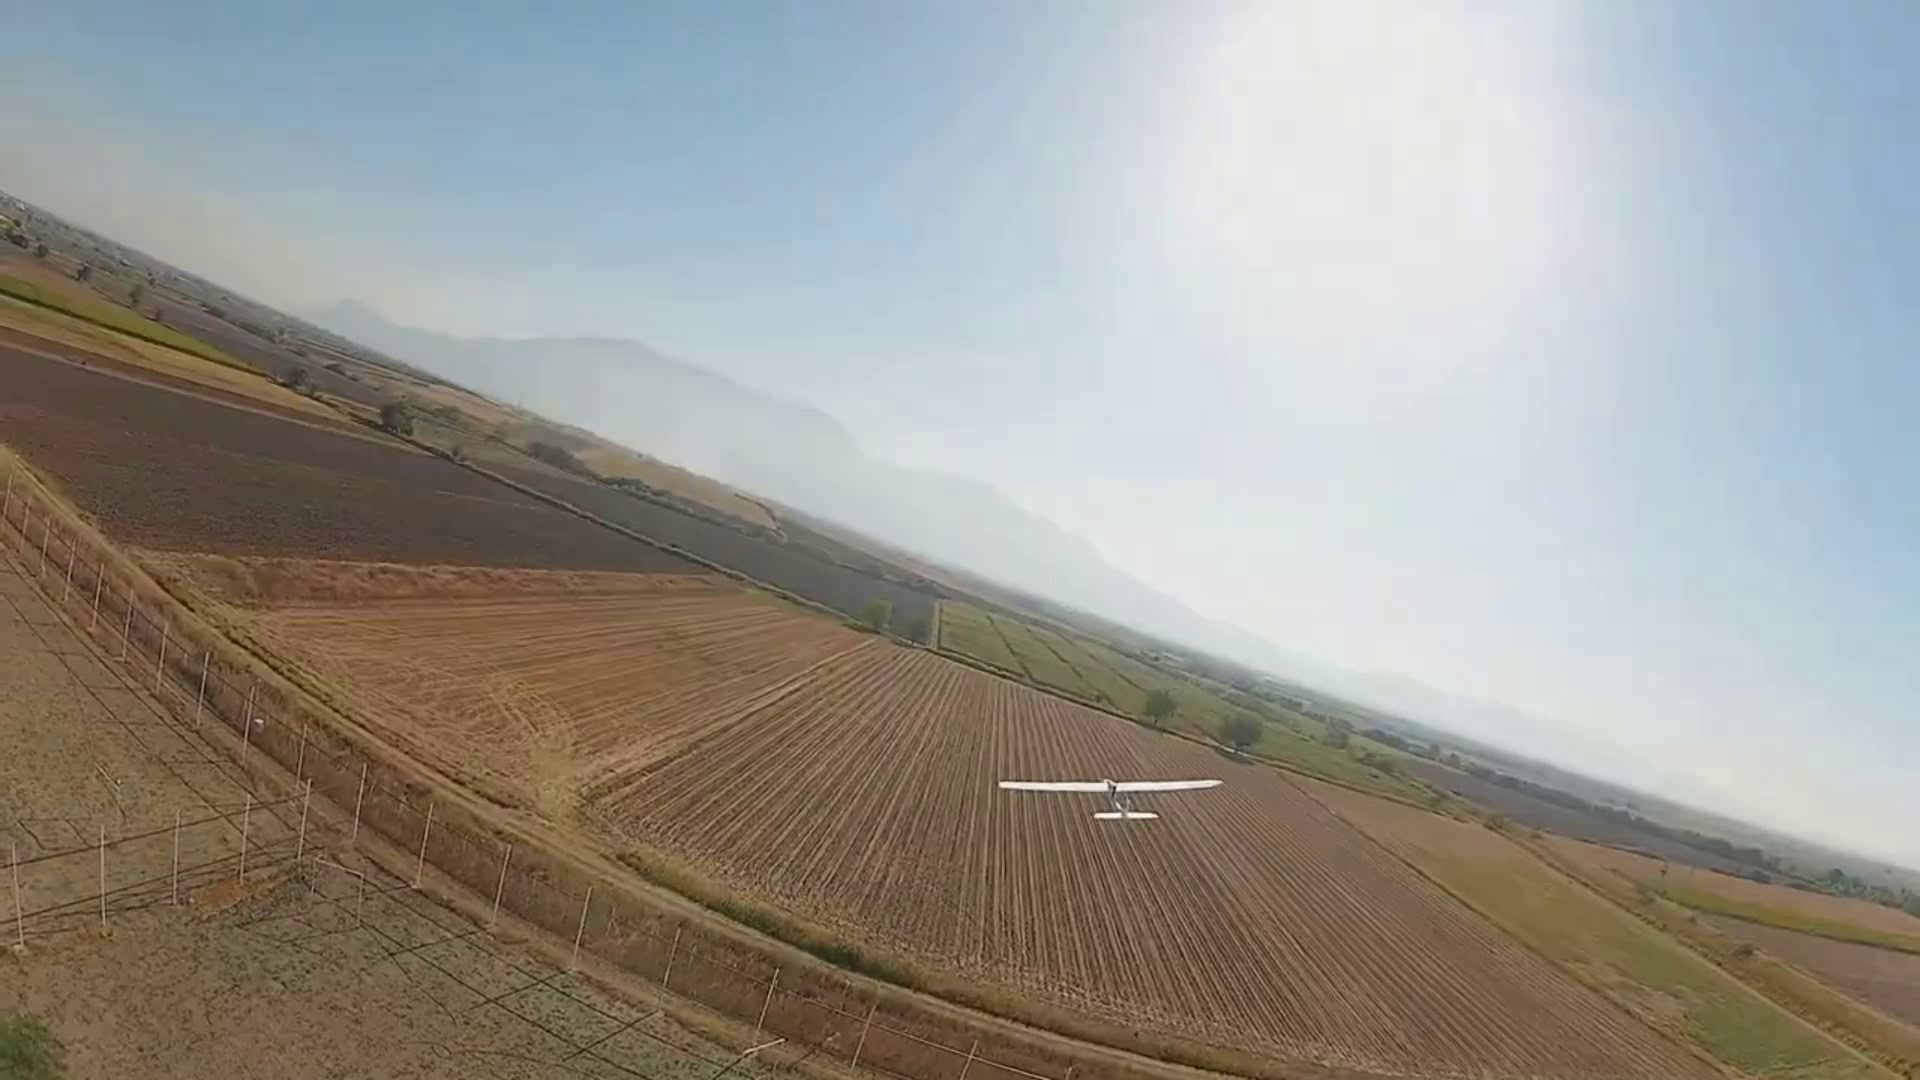airplane: (7, 241, 1913, 927)
